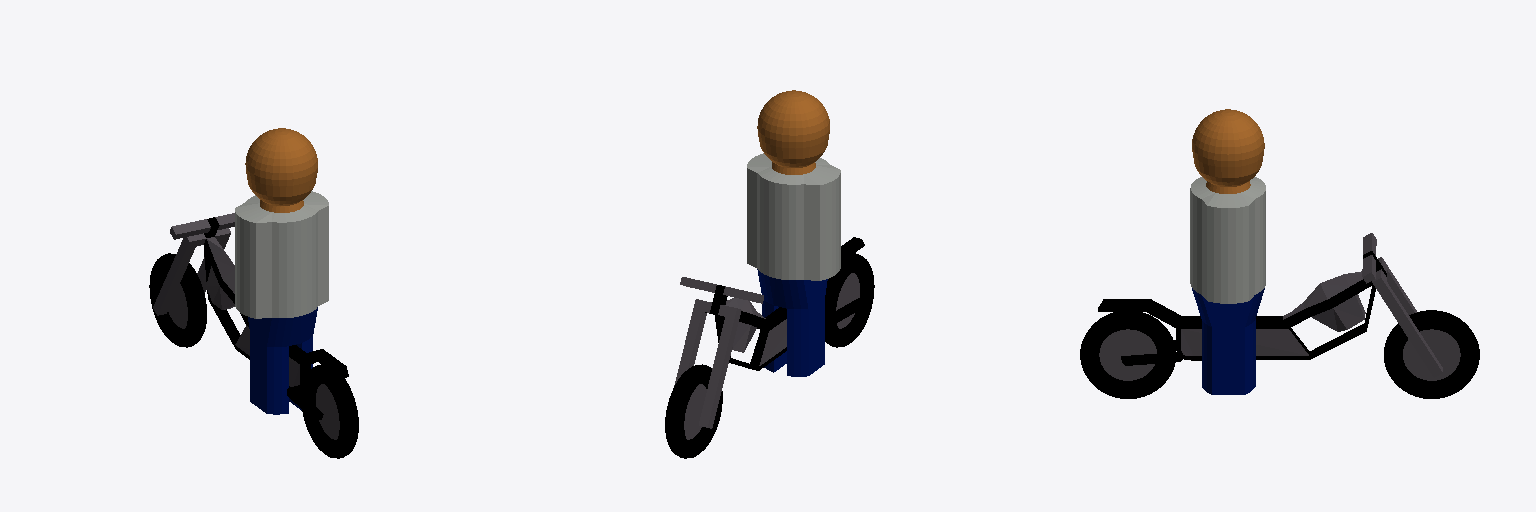
The model's file is Motorcycle.obj.
3 views of the same model, side by side, from view 1: azimuth 30°, elevation 25°; view 2: azimuth 150°, elevation 25°; view 3: azimuth 270°, elevation 25° (orthographic).
Parts seen in each view (by area): view 1: pedestrian_Sphere, motorcycle_Cube; view 2: pedestrian_Sphere, motorcycle_Cube; view 3: motorcycle_Cube, pedestrian_Sphere.
Boxes of the visible parts, x1=… form: pedestrian_Sphere: x1=235, y1=128, x2=328, y2=414; motorcycle_Cube: x1=149, y1=213, x2=358, y2=458; pedestrian_Sphere: x1=747, y1=90, x2=840, y2=376; motorcycle_Cube: x1=665, y1=237, x2=874, y2=458; motorcycle_Cube: x1=1080, y1=233, x2=1479, y2=398; pedestrian_Sphere: x1=1190, y1=109, x2=1265, y2=394.
Bounding box in the file's own units: 0.7291 × 2.38 × 3.